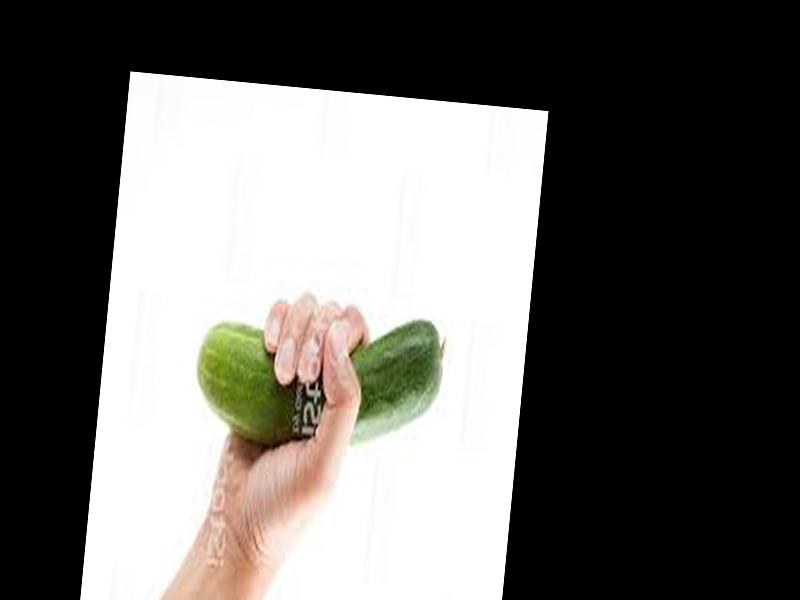Cucumber: (191, 296, 447, 462)
